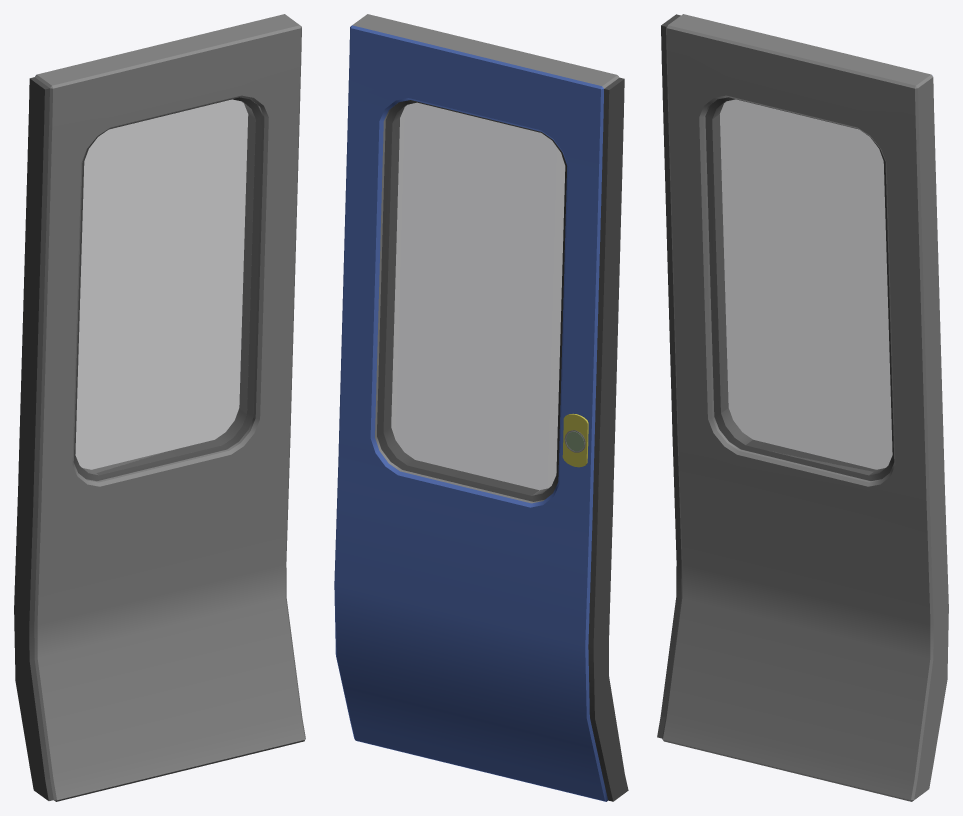
Rendered from Hull_Exit_DoorR.fbx.
3 renders of one model, left to right at view 1: azimuth 30°, elevation 25°; view 2: azimuth 150°, elevation 25°; view 3: azimuth 330°, elevation 25°, orthographic.
Parts seen in each view (by area): view 1: Door1, Window_DoorR; view 2: Door1, Window_DoorR, Door1Button; view 3: Door1, Window_DoorR.
Part boxes in pixels (x1,y1,x2,y2): Door1: [14, 14, 305, 801]; Window_DoorR: [75, 99, 255, 475]; Door1: [334, 14, 628, 801]; Window_DoorR: [384, 102, 565, 495]; Door1Button: [562, 413, 588, 467]; Door1: [657, 14, 948, 801]; Window_DoorR: [712, 99, 892, 475].
Bounding box in the file's own units: 73.44 × 195 × 18.4.
